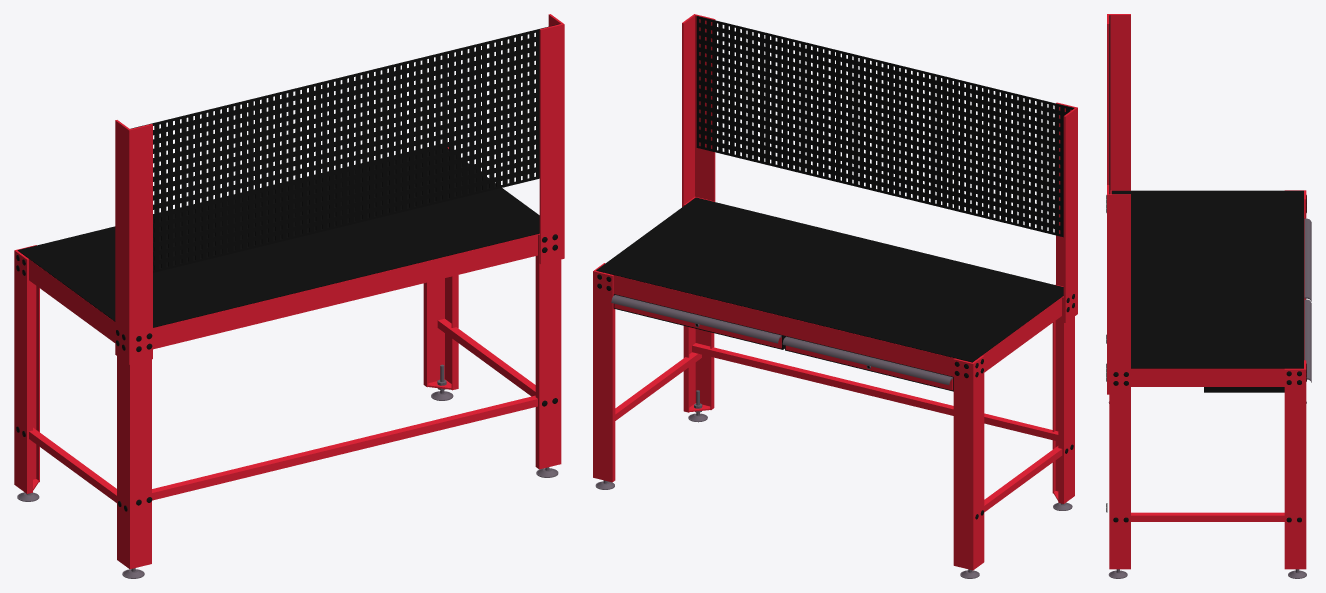
File: Workbench.fbx
3 views of the same model, side by side, from view 1: azimuth 30°, elevation 25°; view 2: azimuth 150°, elevation 25°; view 3: azimuth 270°, elevation 25° (orthographic). The views are drawn at different scales.
Visible parts, largest first — view 1: Adjustable legs; view 2: Adjustable legs; view 3: Adjustable legs.
Boxes of the visible parts, bbox=[...] form: Adjustable legs: bbox=[14, 14, 564, 578]; Adjustable legs: bbox=[593, 14, 1077, 578]; Adjustable legs: bbox=[1106, 14, 1311, 578].
Bounding box in the file's own units: 156 × 154 × 74.54.
